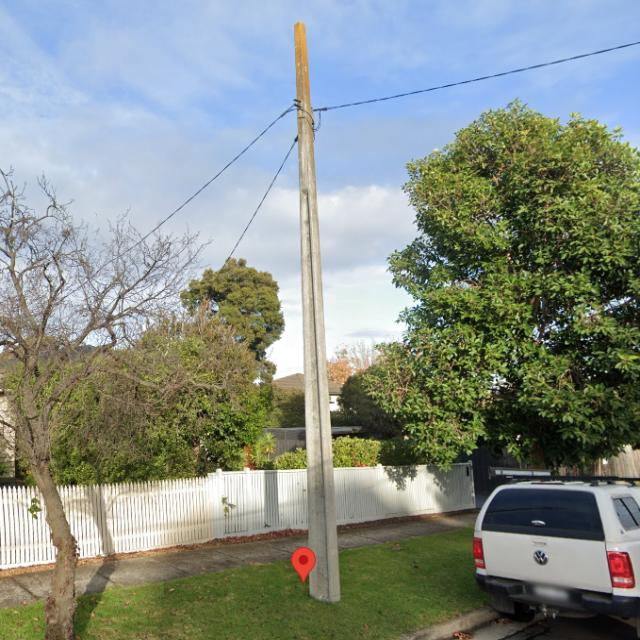concrete-pole: (293, 21, 342, 604)
top mount suitable pole: (294, 20, 344, 605)
